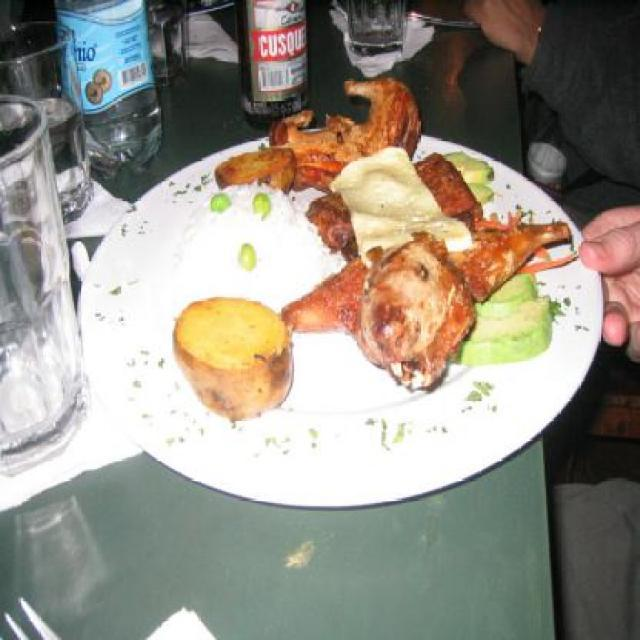Potato: (170, 294, 292, 416)
